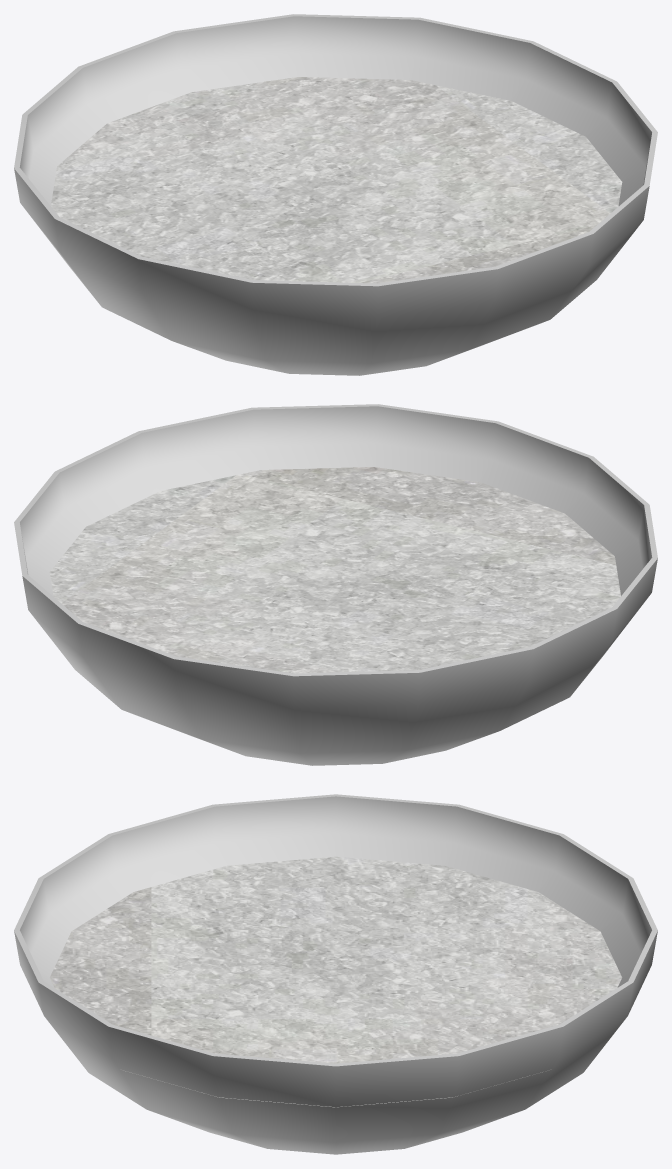
The model's file is Sugar bowl.fbx.
3 views of the same model, one above another, from view 1: azimuth 30°, elevation 25°; view 2: azimuth 150°, elevation 25°; view 3: azimuth 270°, elevation 25° (orthographic).
Parts seen in each view (by area): view 1: Sugar_bowl, Sugar1; view 2: Sugar_bowl, Sugar1; view 3: Sugar_bowl, Sugar1.
Boxes of the visible parts, bbox=[...] form: Sugar_bowl: bbox=[14, 14, 657, 375]; Sugar1: bbox=[51, 77, 622, 283]; Sugar_bowl: bbox=[14, 404, 657, 765]; Sugar1: bbox=[49, 467, 620, 673]; Sugar_bowl: bbox=[14, 794, 657, 1154]; Sugar1: bbox=[49, 856, 622, 1107].
Bounding box in the file's own units: 25.13 × 7.72 × 25.13.
Materials: 2 (1 with a texture image).
